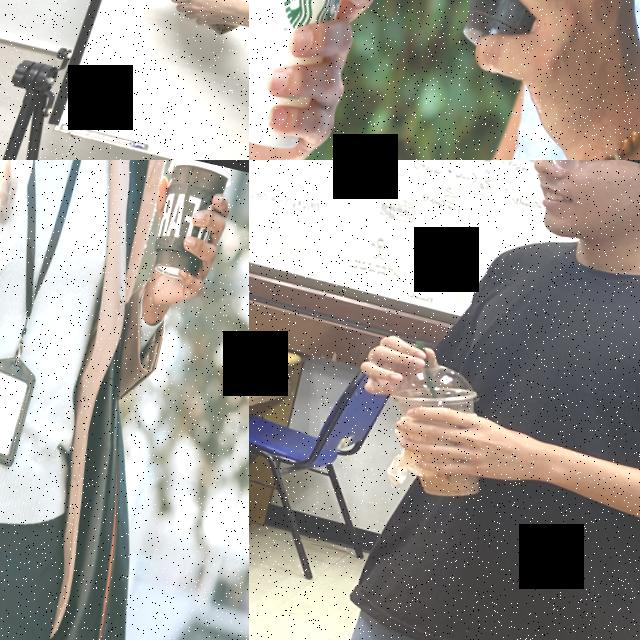cup: (249, 0, 399, 159), (361, 352, 506, 508), (458, 0, 640, 78), (141, 160, 233, 288), (156, 0, 249, 41)
